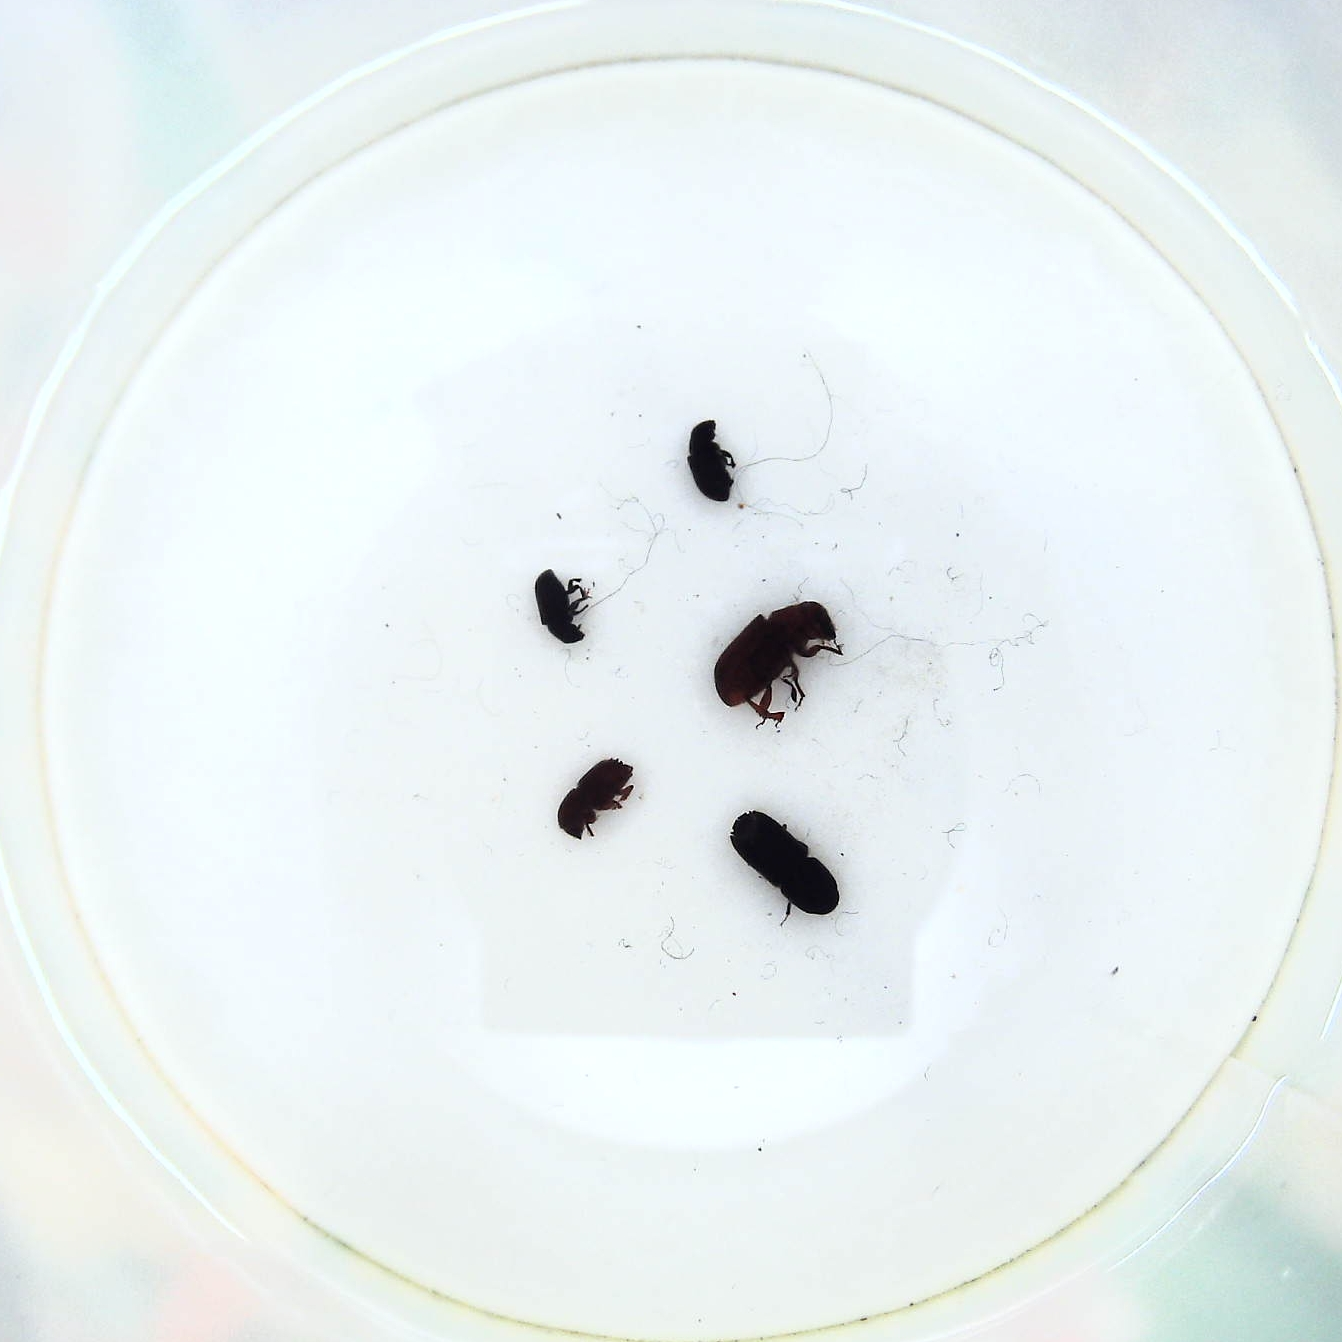Boerner: (728, 810, 844, 924)
Leconte: (715, 597, 849, 728)
armandi: (683, 415, 741, 510)
coleoptera: (535, 563, 590, 649)
linnaeus: (555, 758, 644, 839)
